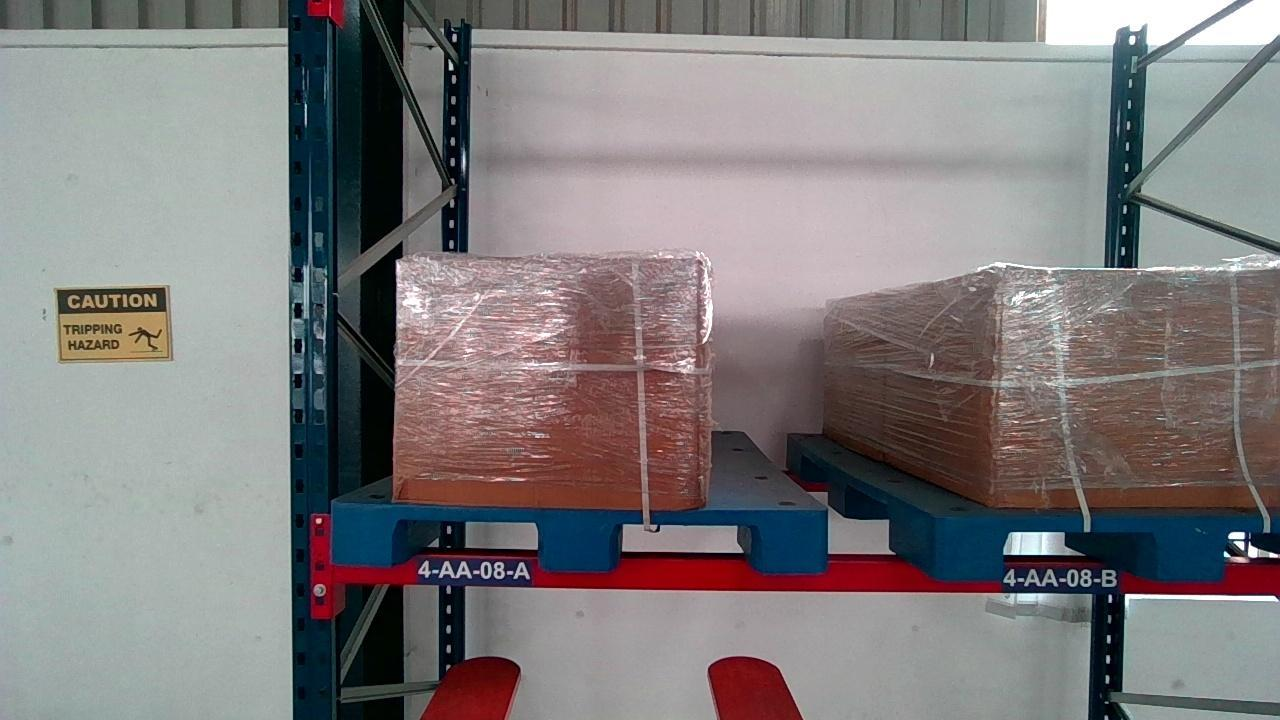h_rack: (325, 550, 1280, 591)
small_pallet: (332, 499, 828, 572), (946, 513, 1280, 579)
